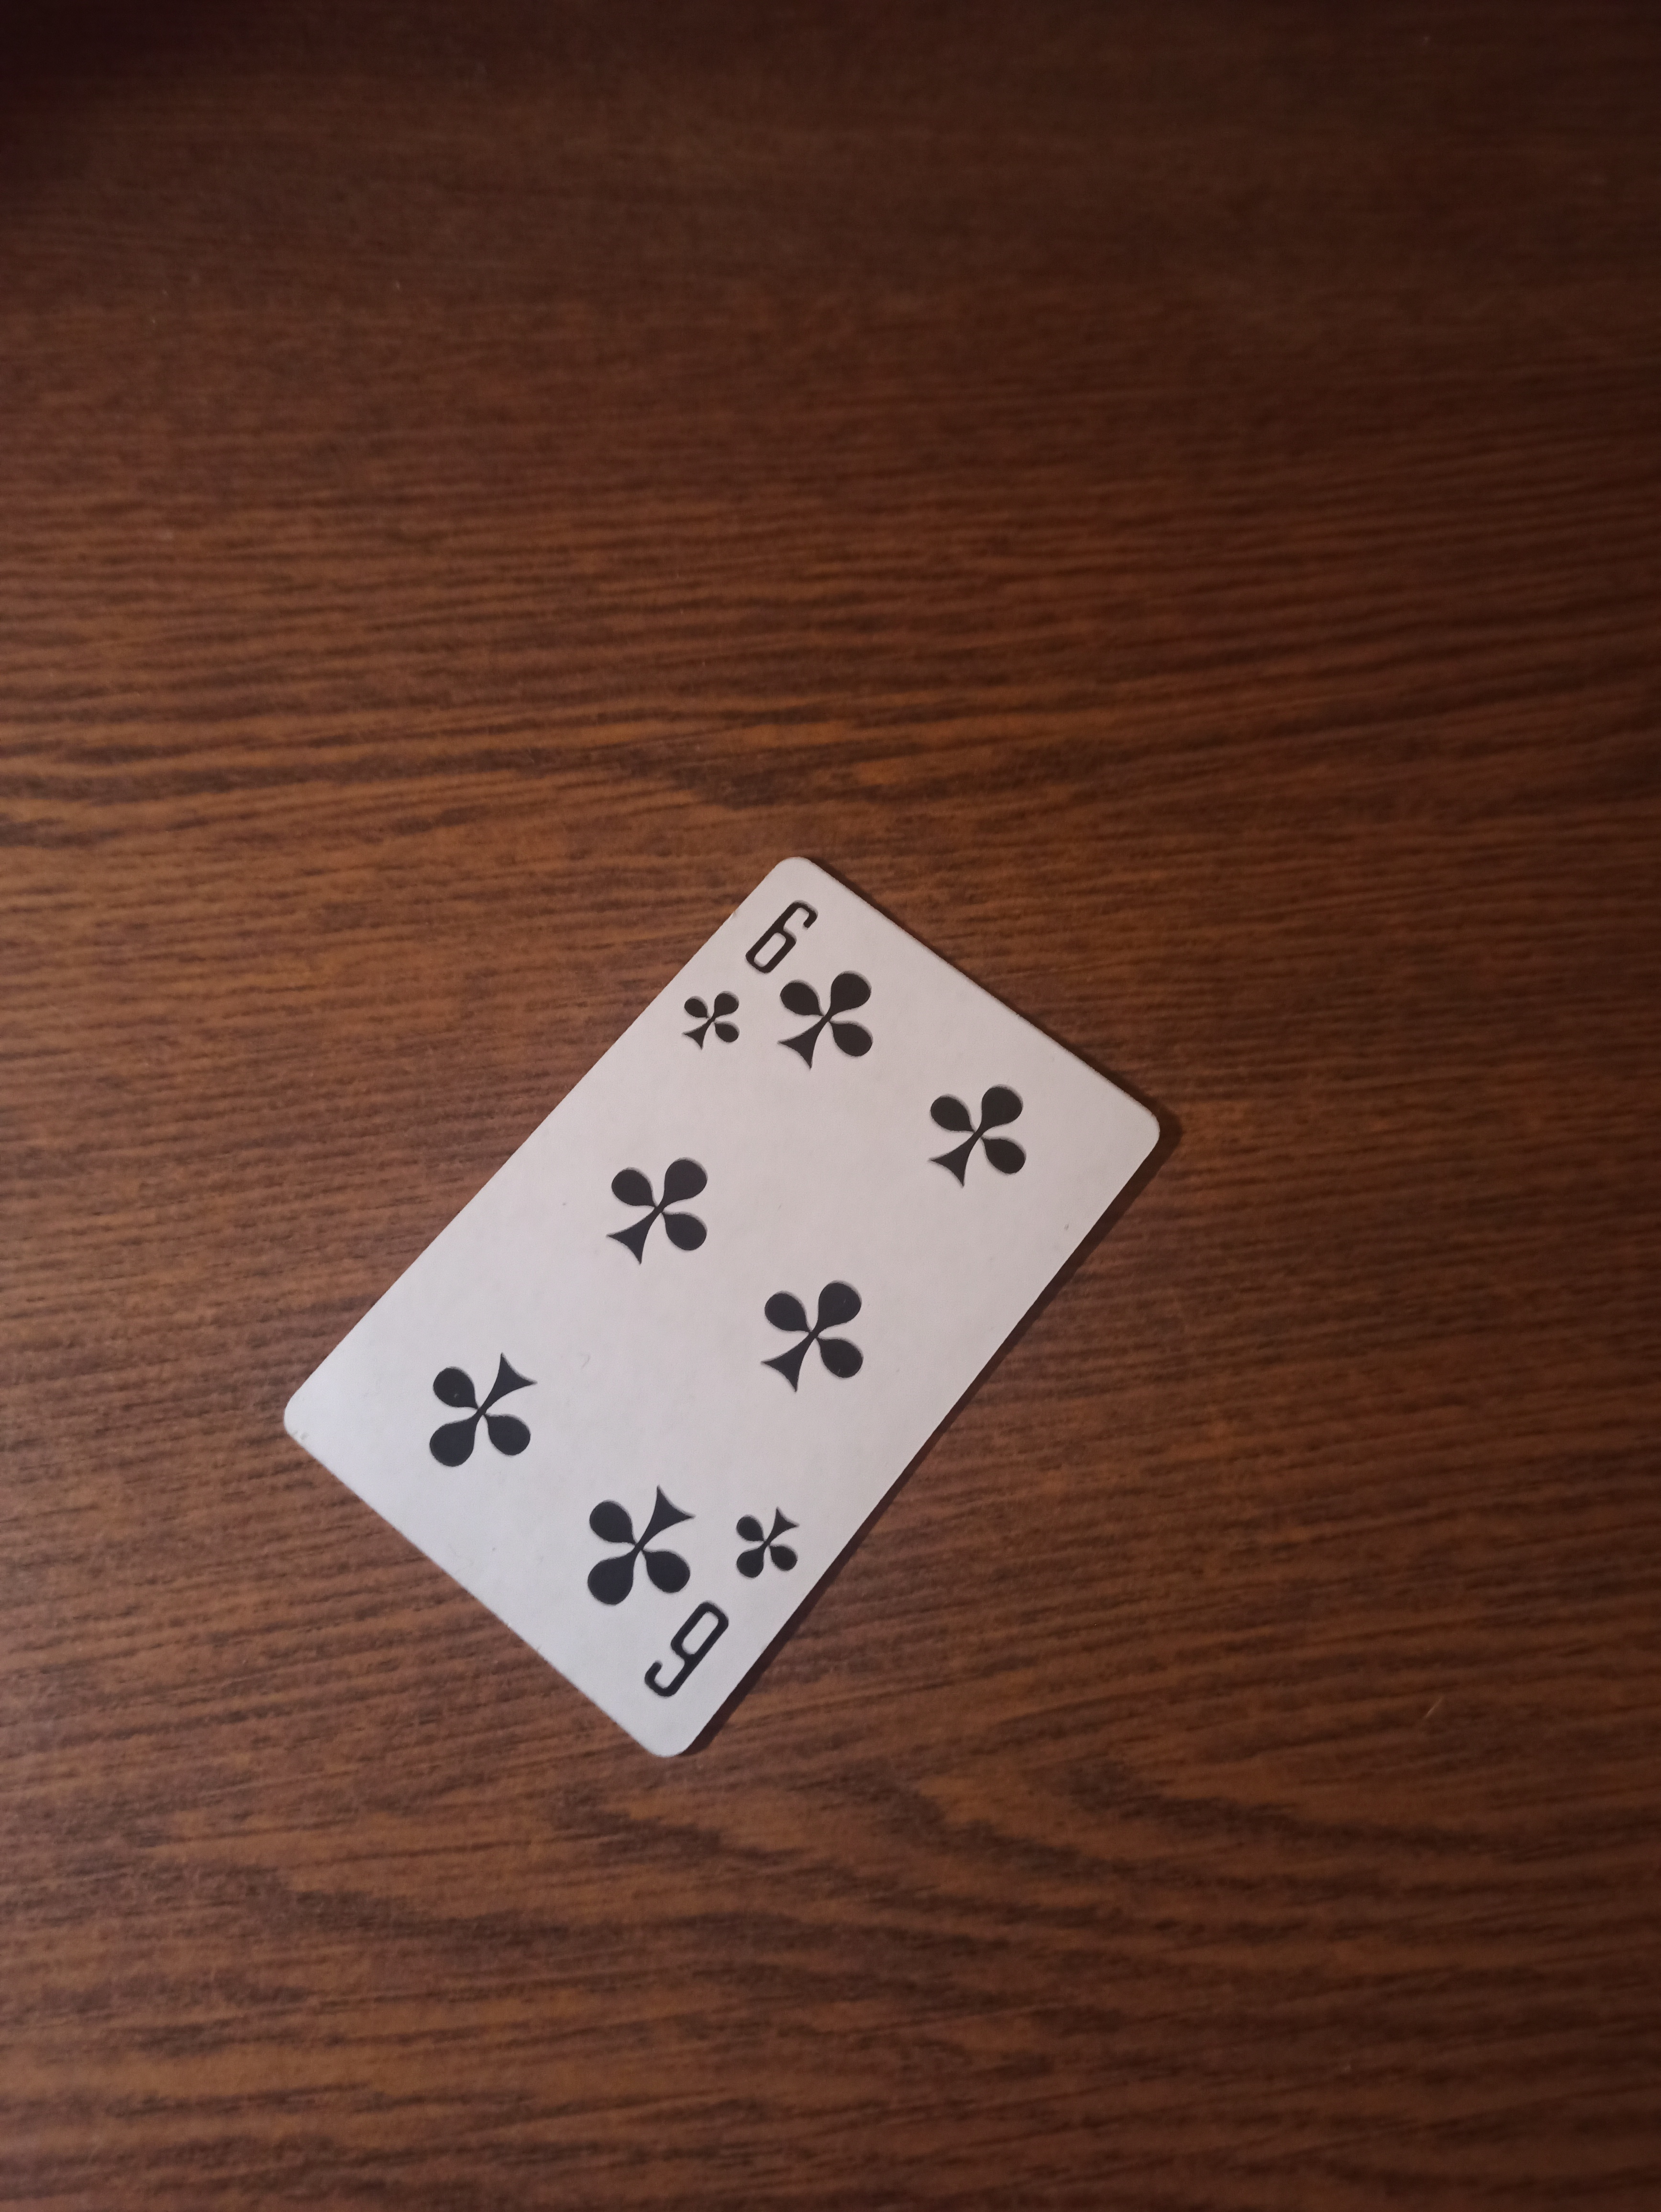sixclubs: (281, 823, 1165, 1771)
